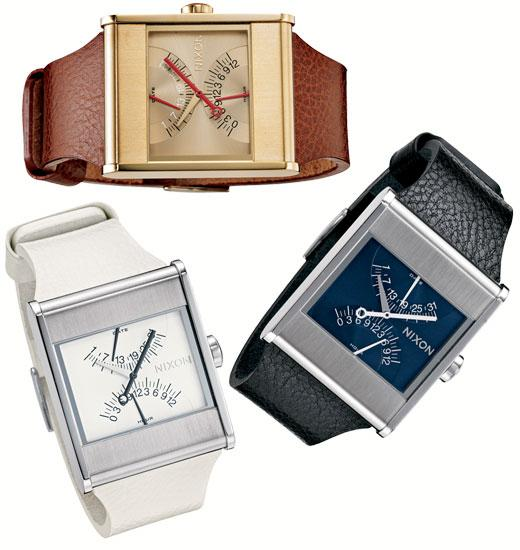watch: (268, 193, 498, 425), (35, 255, 234, 487), (100, 0, 296, 177)
